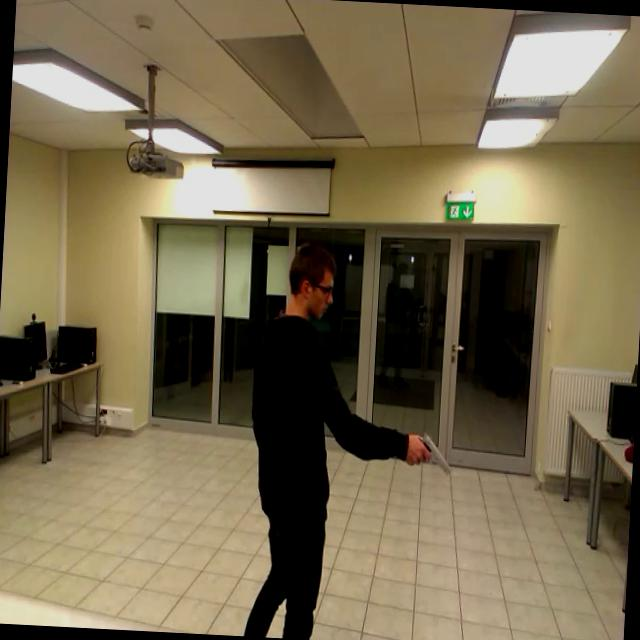handgun: (411, 422, 456, 480)
